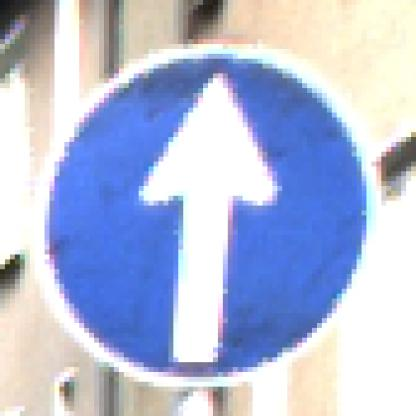AheadOnly: (36, 40, 382, 383)
